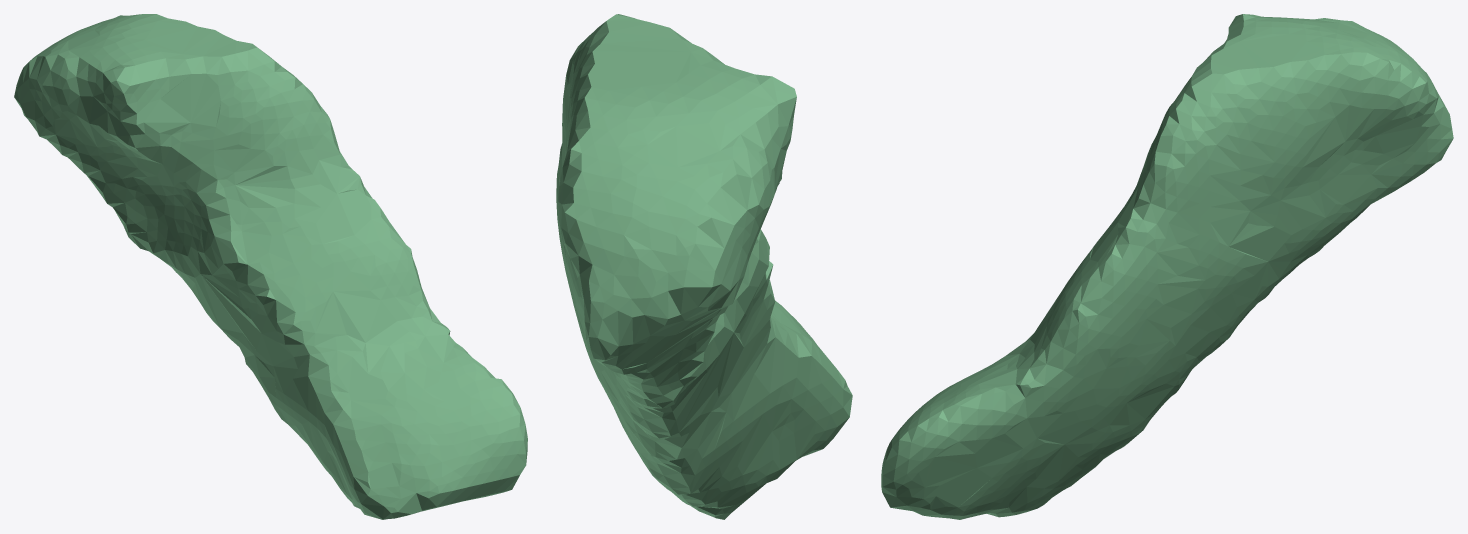
File: Model_10121_LH__Retroinsular_area_(ReI).obj
The picture shows the model from 3 angles, left to right: view 1: azimuth 30°, elevation 25°; view 2: azimuth 150°, elevation 25°; view 3: azimuth 270°, elevation 25°; orthographic projection. The views are drawn at different scales.
Size of the model in its own units: 1.99 by 2.74 by 3.31.
